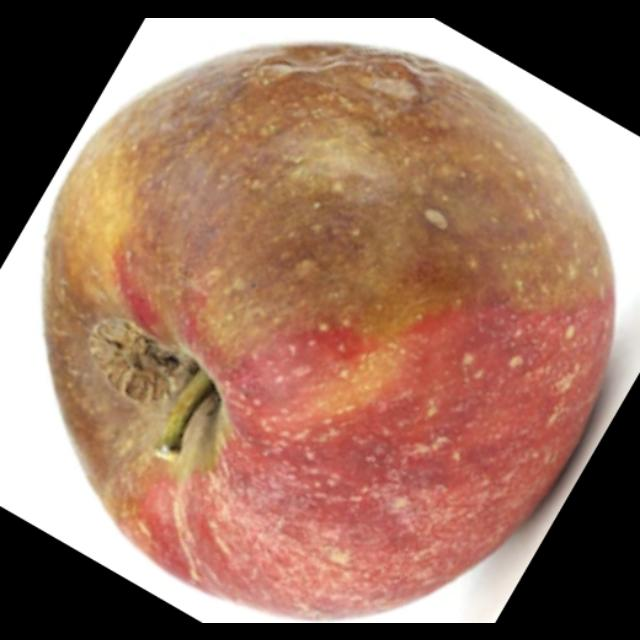Apel Tidak Segar: (37, 35, 621, 622)
